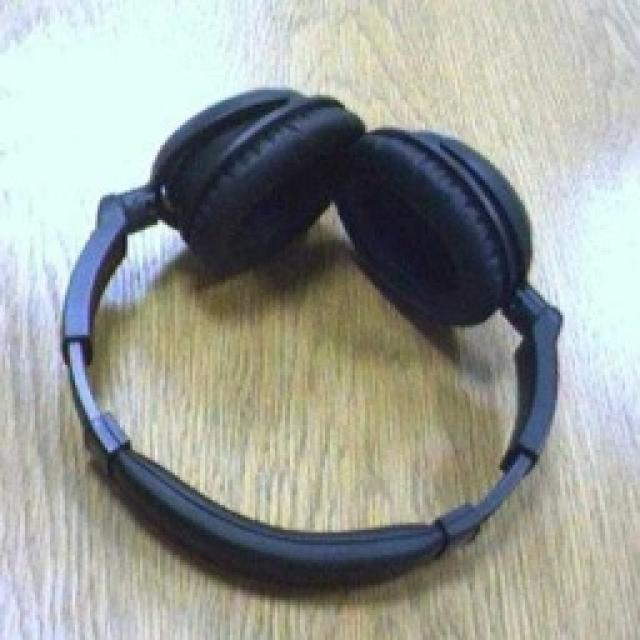headphones: (58, 82, 562, 588)
